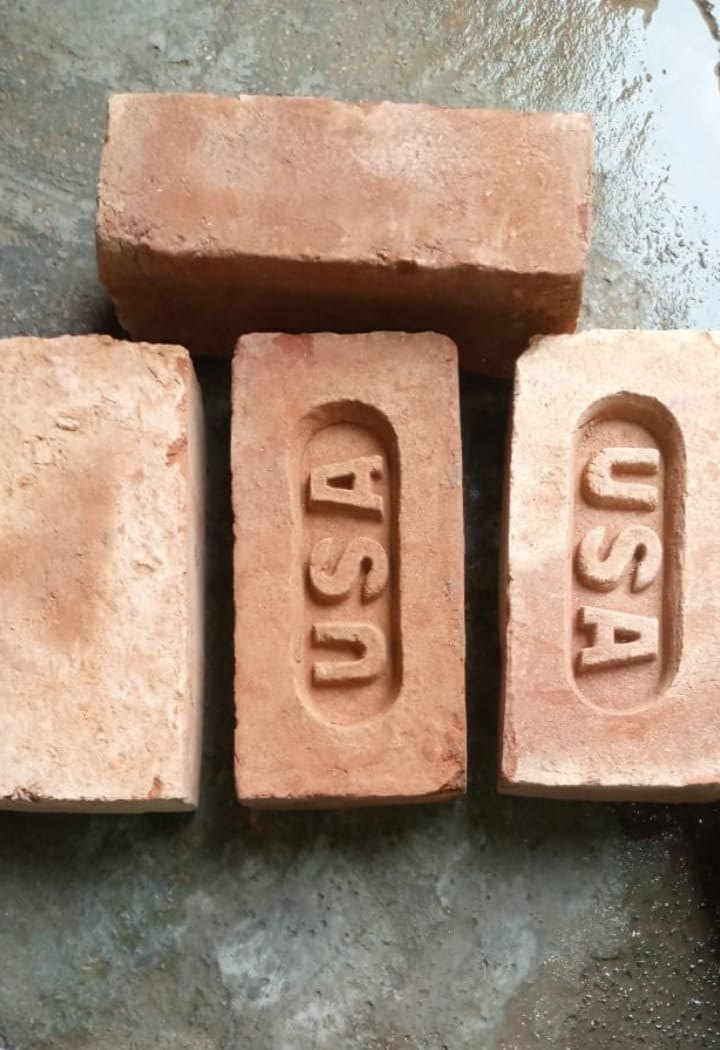brick: (235, 335, 462, 800), (500, 328, 717, 790), (100, 90, 590, 270), (3, 343, 191, 803)
